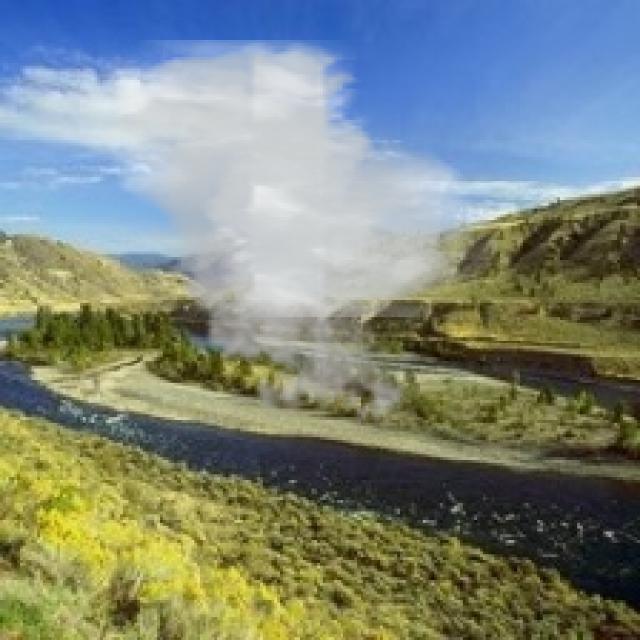smoke: (80, 40, 497, 434)
